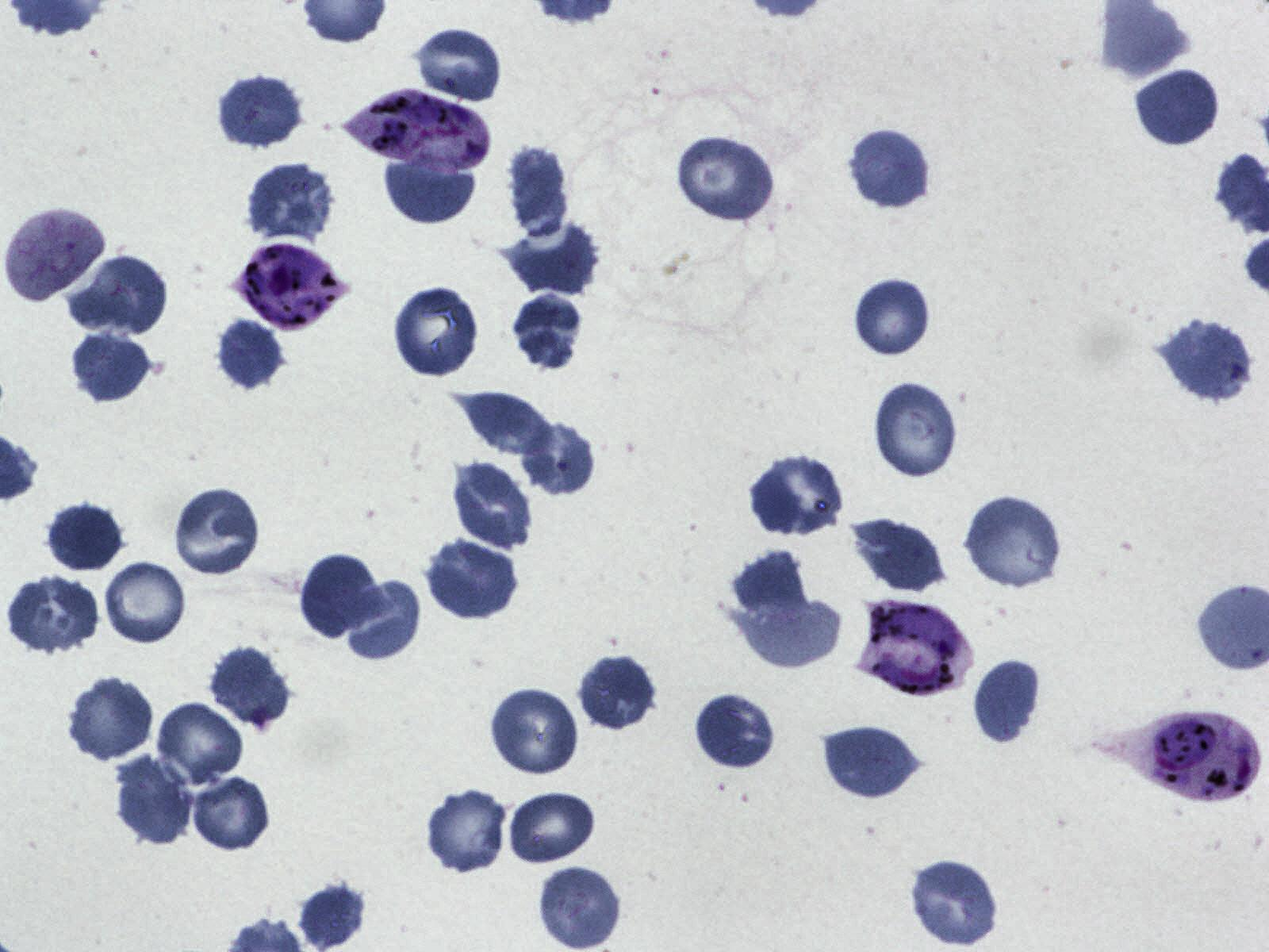Infected: (339, 90, 491, 171), (1144, 710, 1259, 807), (864, 599, 972, 701), (2, 208, 108, 305), (234, 243, 343, 335)
Uninfected: (965, 493, 1063, 595), (675, 132, 778, 225), (152, 699, 247, 793), (875, 378, 960, 483), (67, 253, 170, 338), (489, 685, 581, 779), (746, 453, 845, 539), (909, 856, 1001, 948), (175, 486, 263, 581), (113, 747, 196, 847), (1159, 316, 1253, 404), (393, 284, 480, 379), (450, 459, 535, 553), (426, 536, 521, 620), (67, 674, 156, 763), (821, 721, 920, 801), (299, 551, 384, 642), (102, 559, 188, 648), (245, 159, 336, 243), (6, 574, 101, 654), (730, 601, 845, 667), (537, 863, 623, 951), (424, 787, 509, 876), (508, 219, 602, 299), (853, 512, 948, 590), (415, 24, 504, 107), (970, 654, 1046, 750), (506, 789, 600, 866), (1133, 66, 1221, 147), (205, 640, 286, 728), (849, 127, 933, 210), (516, 413, 598, 497), (216, 73, 304, 151), (853, 276, 933, 360), (454, 393, 558, 457), (68, 328, 154, 405), (694, 692, 776, 771), (190, 773, 270, 853), (383, 160, 474, 228), (345, 581, 423, 660), (579, 651, 656, 731), (509, 292, 584, 373), (44, 498, 123, 574), (508, 146, 568, 239), (216, 318, 286, 392), (298, 885, 365, 950)
